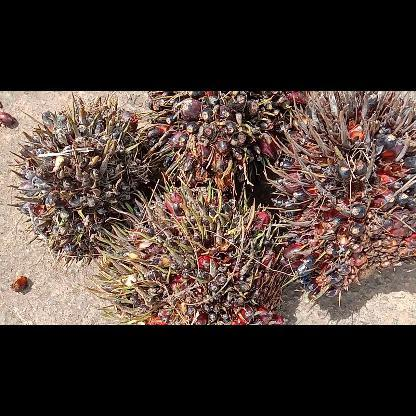TBS abnormal: (278, 90, 416, 300), (99, 181, 290, 321), (12, 99, 156, 259), (144, 90, 312, 194)
